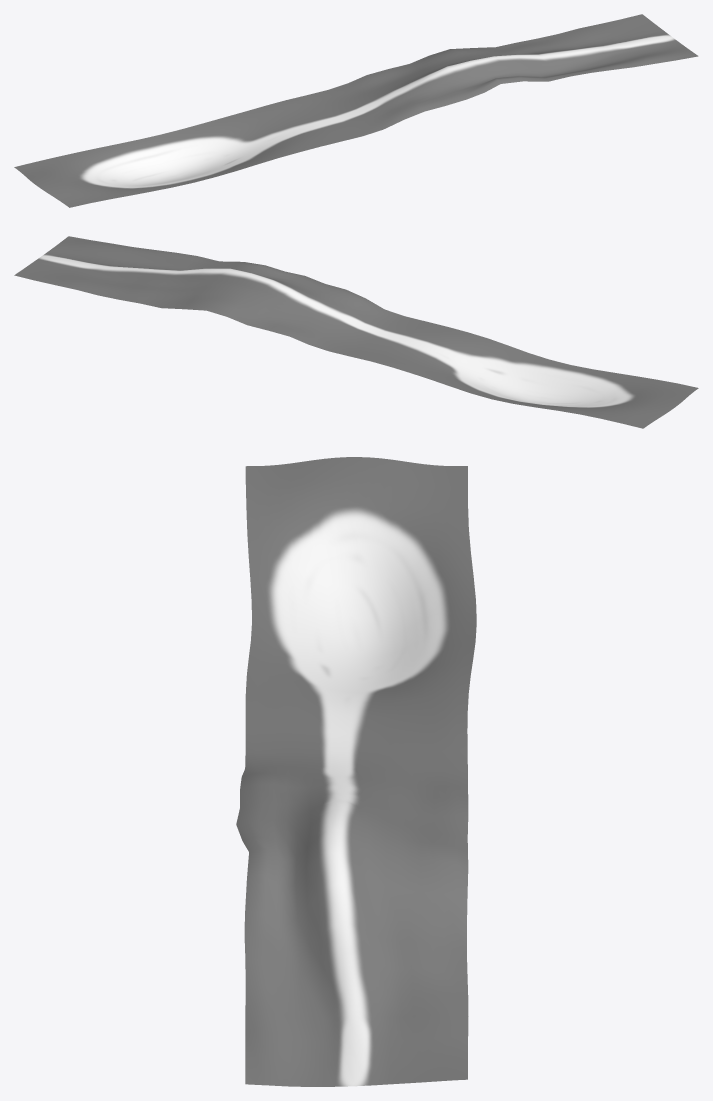
The picture shows the model from 3 angles, top to bottom: view 1: azimuth 30°, elevation 25°; view 2: azimuth 150°, elevation 25°; view 3: azimuth 270°, elevation 25°; orthographic projection. The views are drawn at different scales.
Visible parts, largest first — view 1: Plane; view 2: Plane; view 3: Plane.
Boxes of the visible parts, <box> form: Plane: <box>14,14,698,207</box>; Plane: <box>14,236,698,428</box>; Plane: <box>236,457,476,1086</box>.
Size of the model in its own units: 16983 by 1213 by 2789.
Materials: 1 (1 with a texture image).
